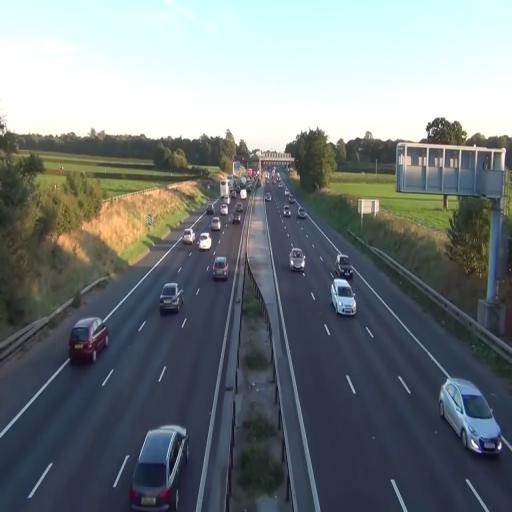vehicle: (129, 424, 189, 510), (439, 377, 503, 457), (68, 316, 109, 366), (330, 279, 357, 317), (159, 280, 183, 314), (212, 254, 230, 281), (288, 246, 306, 272), (337, 254, 352, 278), (182, 228, 196, 246), (199, 232, 212, 251), (231, 204, 243, 223), (283, 203, 297, 219), (210, 217, 223, 234), (282, 204, 292, 220), (298, 210, 307, 220)
